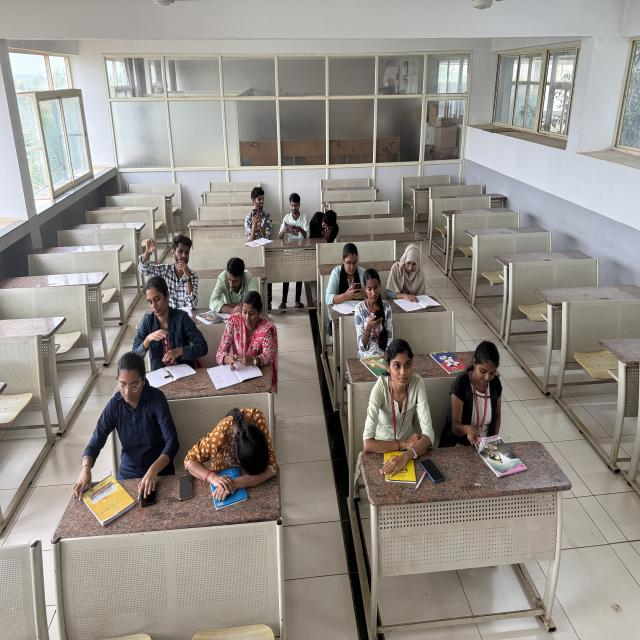Reading: (446, 337, 506, 448), (212, 287, 272, 382), (384, 239, 438, 314), (209, 257, 260, 311), (280, 190, 308, 242)
Sleeping: (183, 400, 284, 504)
Using Phone: (356, 268, 394, 353), (241, 182, 276, 244), (329, 241, 366, 298), (308, 208, 340, 240)
